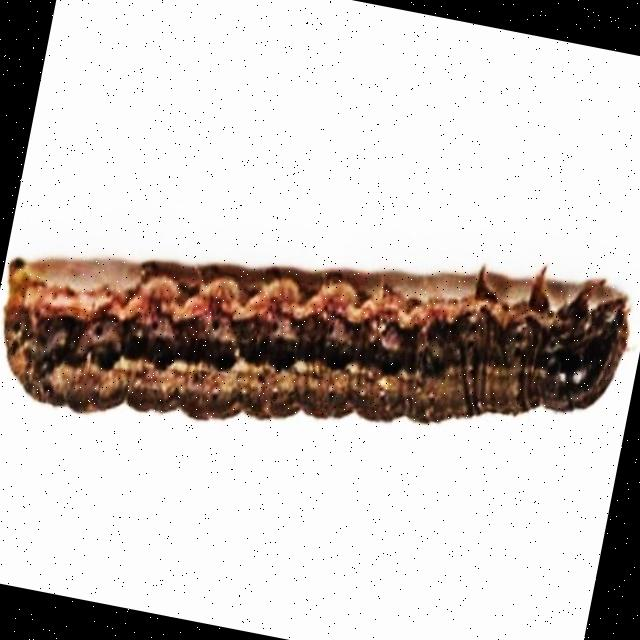worm: (1, 166, 640, 517)
